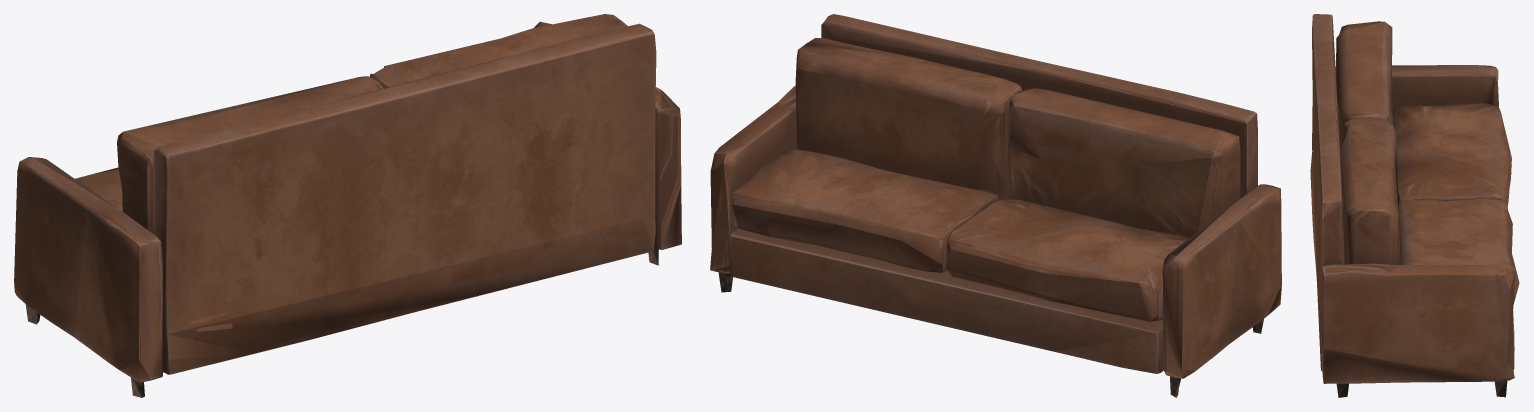
Rendered from xizhentsan_SOFA.fbx.
3 views of the same model, side by side, from view 1: azimuth 30°, elevation 25°; view 2: azimuth 150°, elevation 25°; view 3: azimuth 270°, elevation 25° (orthographic). The views are drawn at different scales.
Visible parts, largest first — view 1: SOFA; view 2: SOFA; view 3: SOFA.
Boxes of the visible parts, x1,y1,x2,y2 form: SOFA: (14, 14, 681, 397); SOFA: (710, 14, 1281, 397); SOFA: (1310, 14, 1519, 397).
Size of the model in its own units: 180 by 76.55 by 75.41.
Materials: 1 (1 with a texture image).
